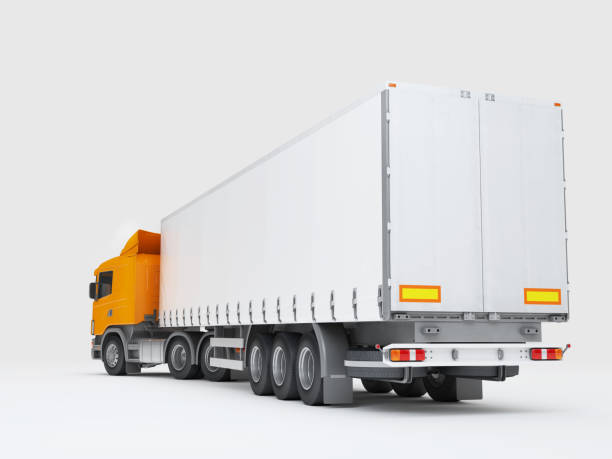Semi: (88, 80, 571, 406)
